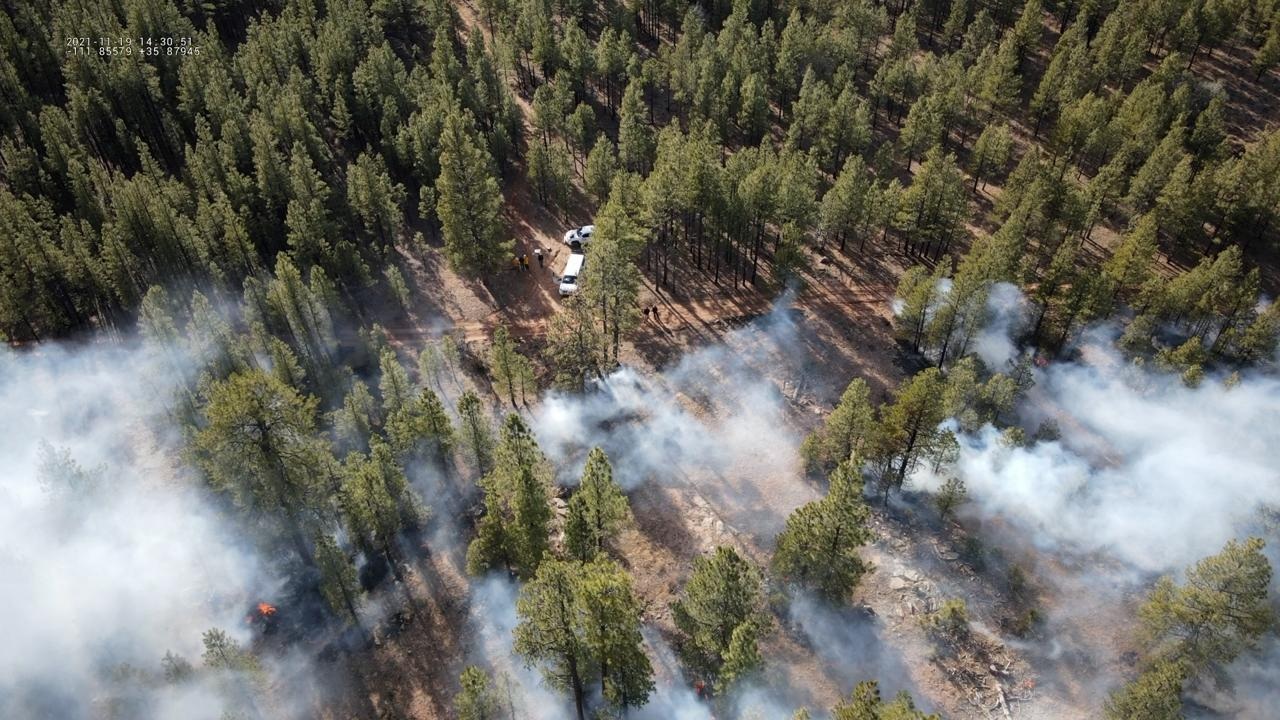fire: (257, 601, 277, 617), (1034, 356, 1050, 368), (693, 681, 705, 696), (243, 615, 253, 627)
smoke: (0, 270, 1280, 720)
